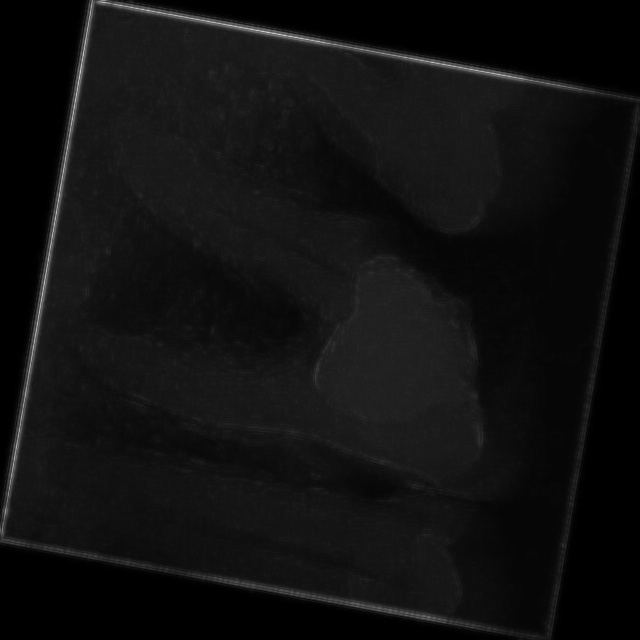Class 2- incomplete endodontic treatment: (31, 91, 554, 529)
